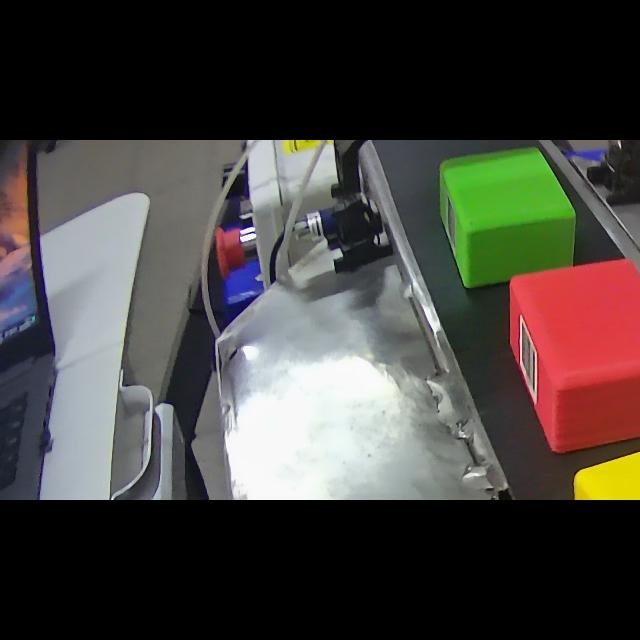greenBox: (436, 143, 580, 294)
redBox: (506, 244, 640, 458)
yellowBox: (568, 420, 640, 500)
